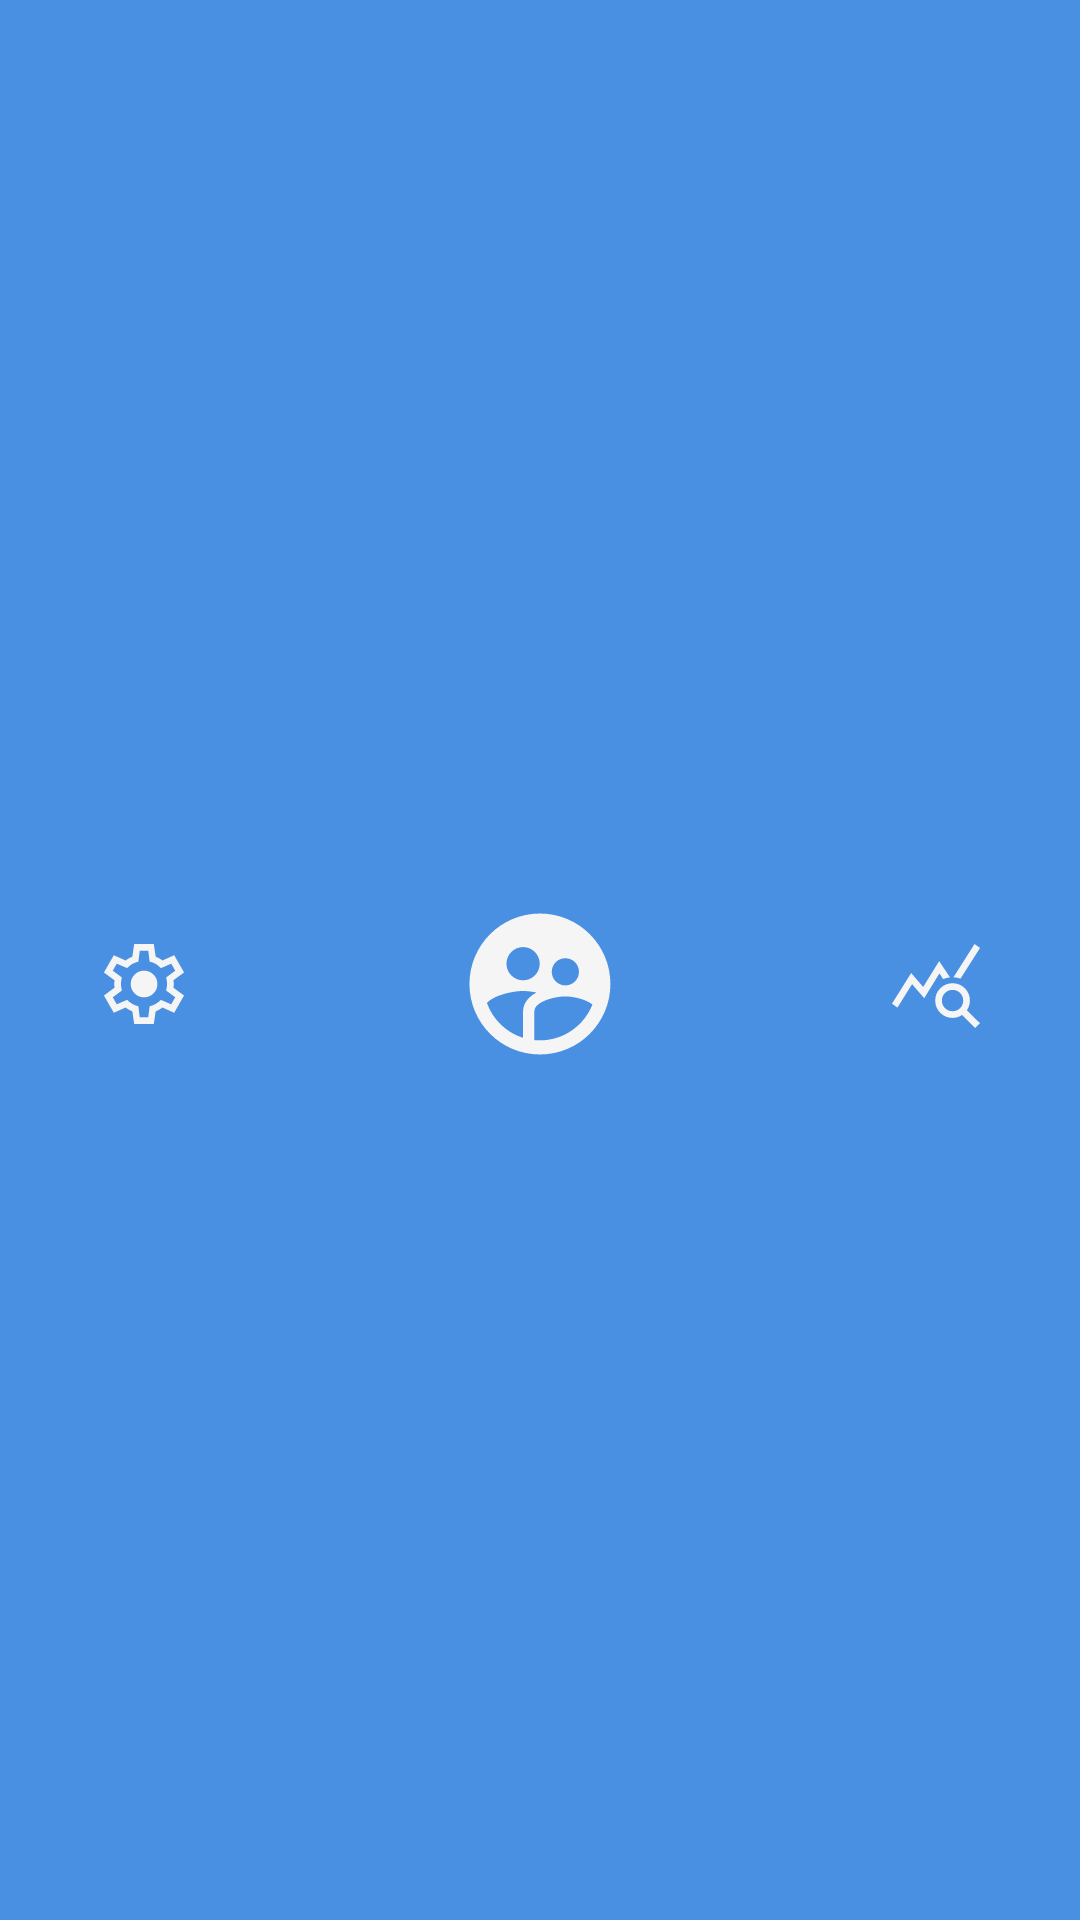

Locate icon controls on the screen. Image size 1080 × 1920, boxes as bbox(x1, y1, x2, y2).
Go to Settings: bbox(104, 944, 184, 1024)
Go to Statistics: bbox(892, 944, 980, 1028)
